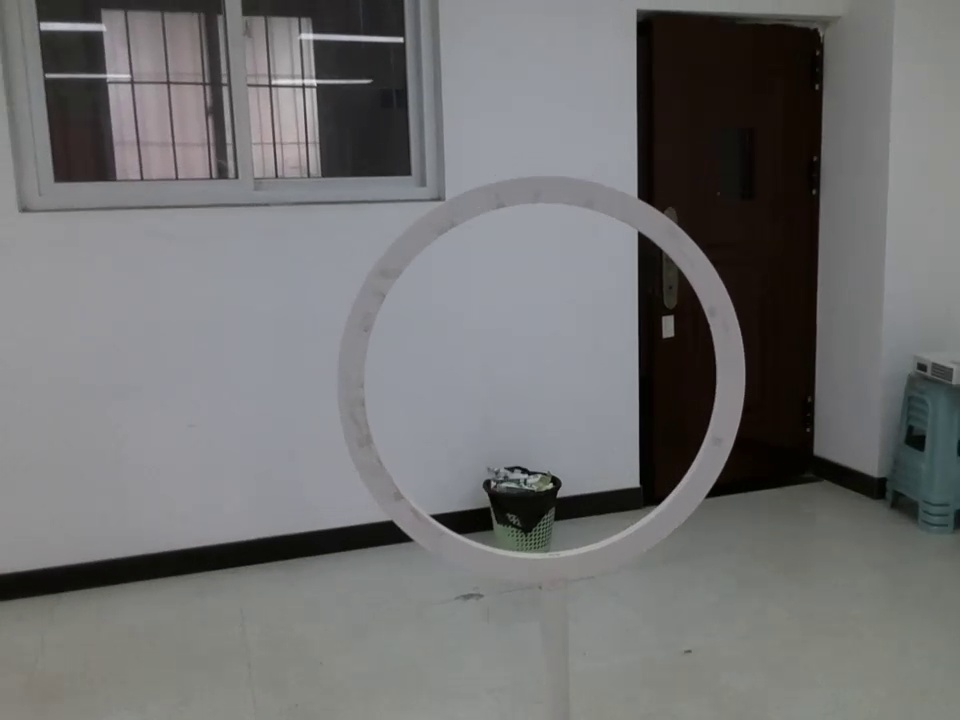quan: (345, 178, 740, 588)
